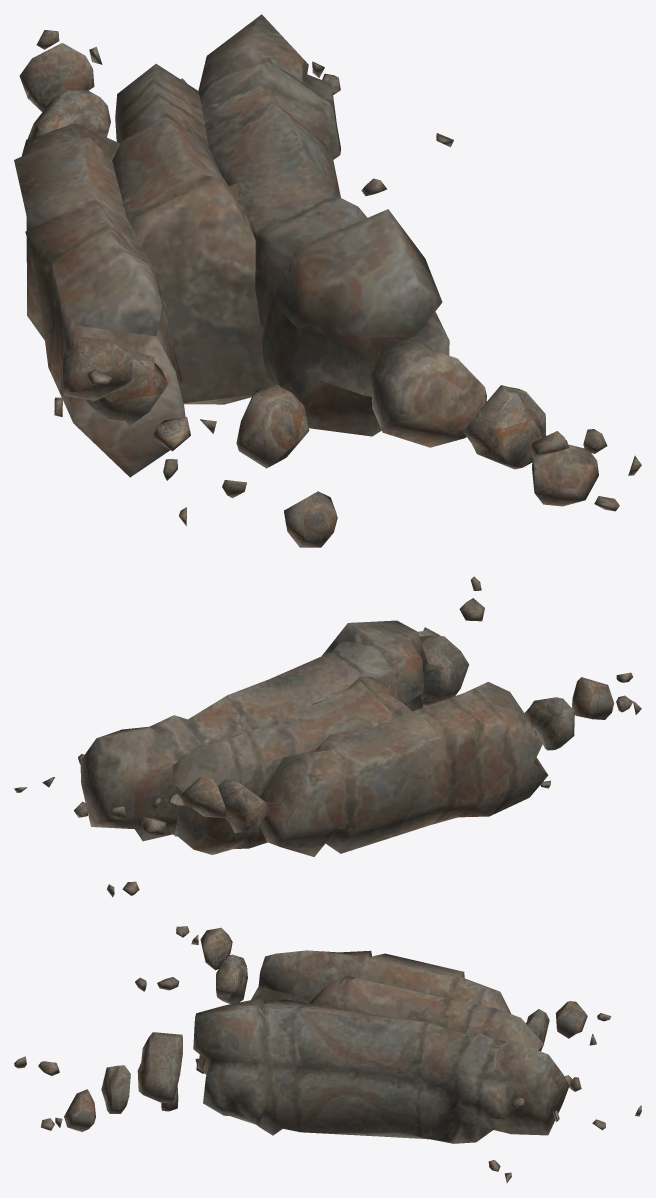
The model's file is bg_rad_kamen_rock02f_sm.obj.
3 renders of one model, top to bottom at view 1: azimuth 30°, elevation 25°; view 2: azimuth 150°, elevation 25°; view 3: azimuth 270°, elevation 25°, orthographic. The views are drawn at different scales.
Visible parts, largest first — view 1: bg_rad_kamen_rock02f_sm_0; view 2: bg_rad_kamen_rock02f_sm_0; view 3: bg_rad_kamen_rock02f_sm_0.
Part boxes in pixels (left/top/right/bottom): bg_rad_kamen_rock02f_sm_0: left=14, top=14, right=641, bottom=547; bg_rad_kamen_rock02f_sm_0: left=14, top=576, right=641, bottom=897; bg_rad_kamen_rock02f_sm_0: left=14, top=926, right=641, bottom=1183.
Bounding box in the file's own units: 1.46 × 0.521 × 2.03.
Materials: 1 (1 with a texture image).
